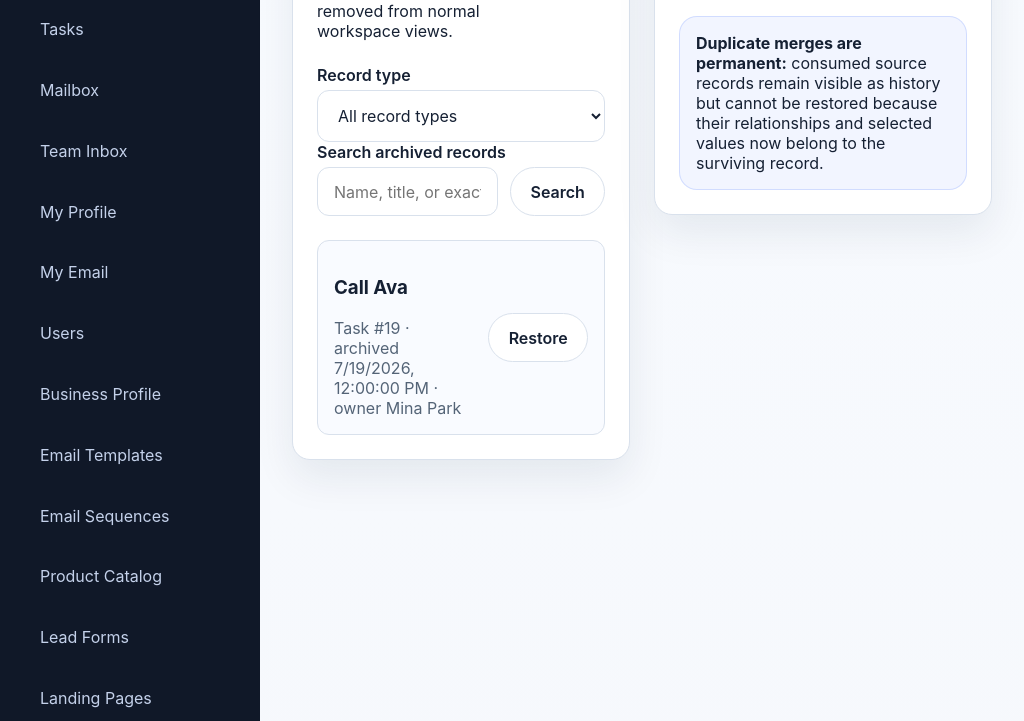
Test: archived records settings route › lets a member search and restore a recoverable record
(page scrolled)
Expected: the heading "Call Ava" is shown, [334,276,408,299]
Expected: the text "Task #19 · archived 7/19/2026, 12:00:00 PM · owner Mina Park" is shown, [334,318,472,418]
Click the button "Restore": (538, 338) [488,313,588,362]
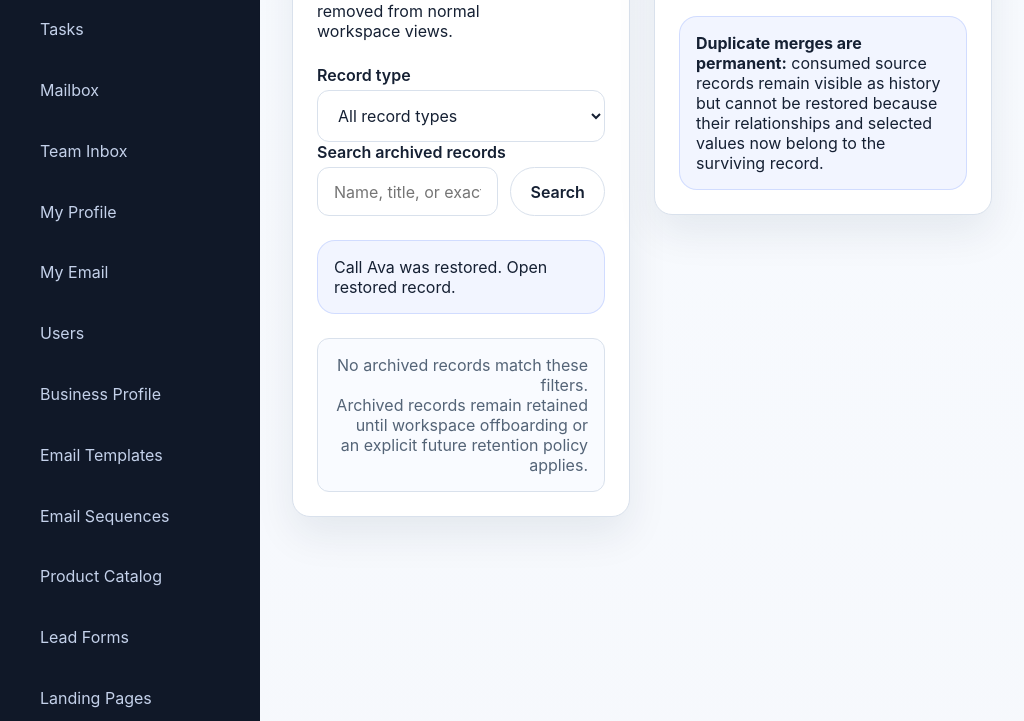
Expected: the text "Call Ava was restored. Open restored record ." is shown, [317,240,605,314]
Expected: the text "owner Mina Park" is gone
